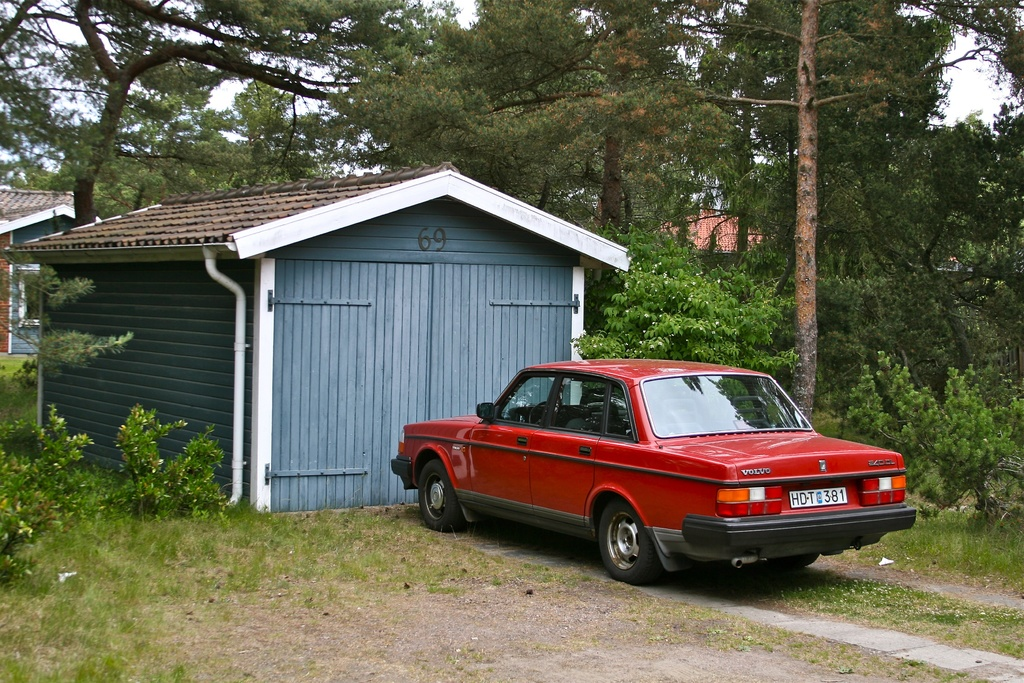Car: (382, 367, 915, 597)
